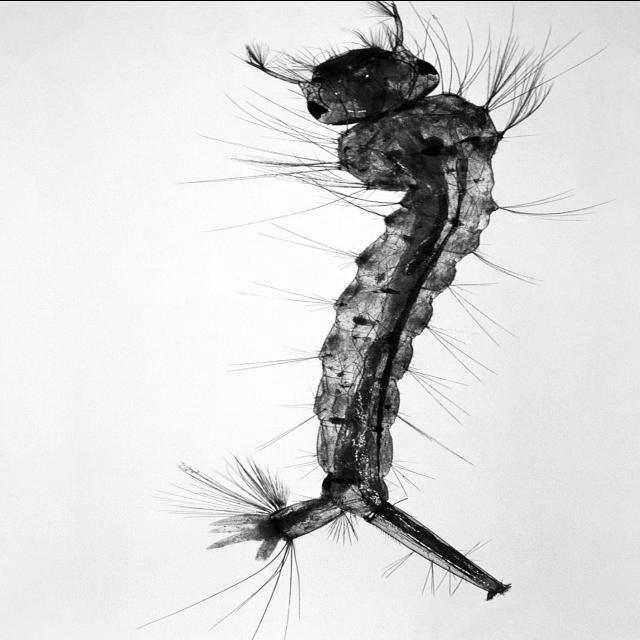larvas: (258, 12, 505, 595)
